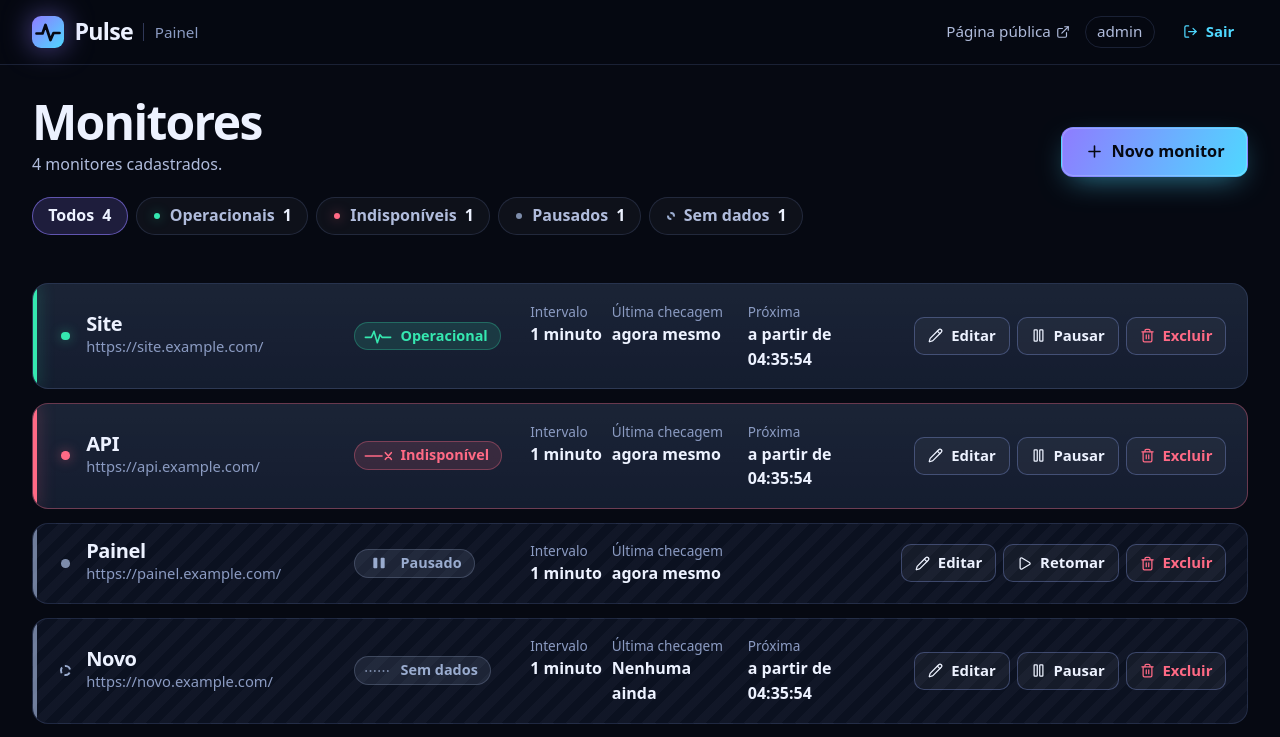
Test: pausar, retomar e excluir › falha de rede numa operação: mensagem clara, sem perder a lista
Expected: the element "Site" is shown, [32, 283, 1248, 389]
Click the button with aria-label "Pausar Site".
click(1068, 336)  # box [1017, 317, 1118, 355]
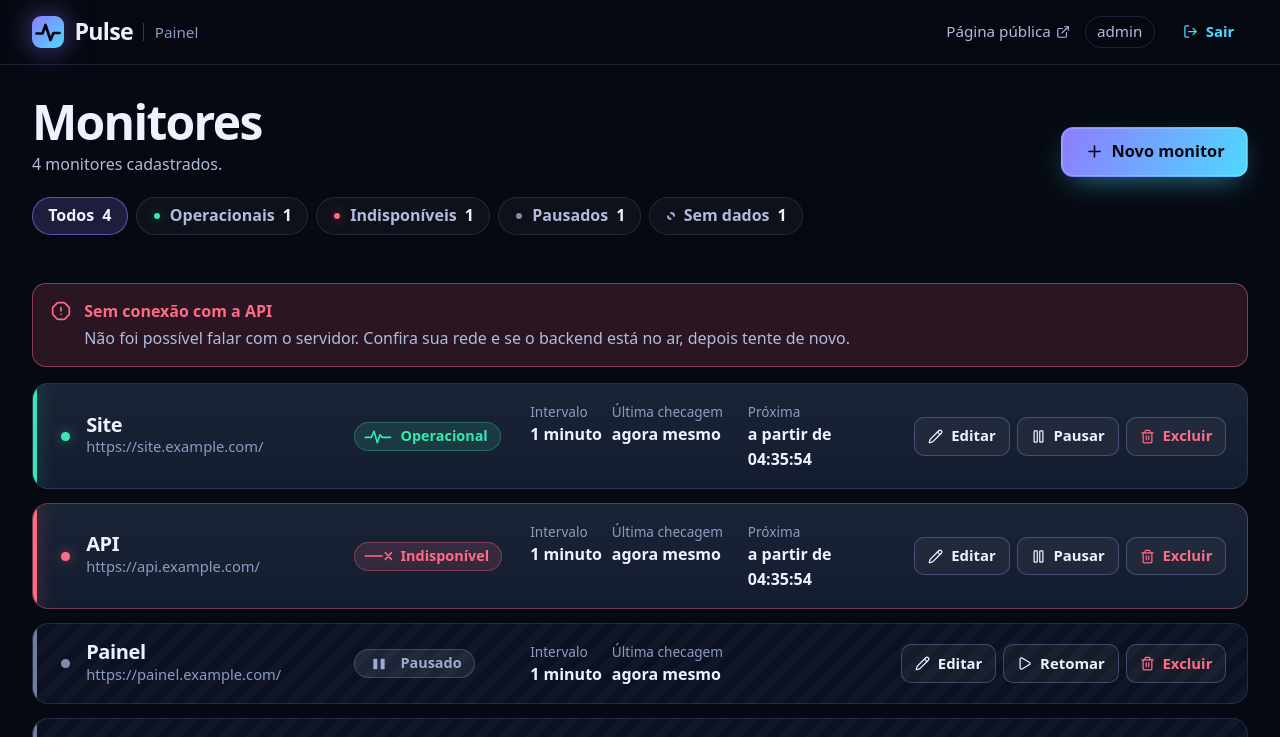
Expected: the element "Site" is shown, [32, 383, 1248, 490]
Expected: the text "Sem conexão com a API" is shown, [84, 300, 272, 322]
